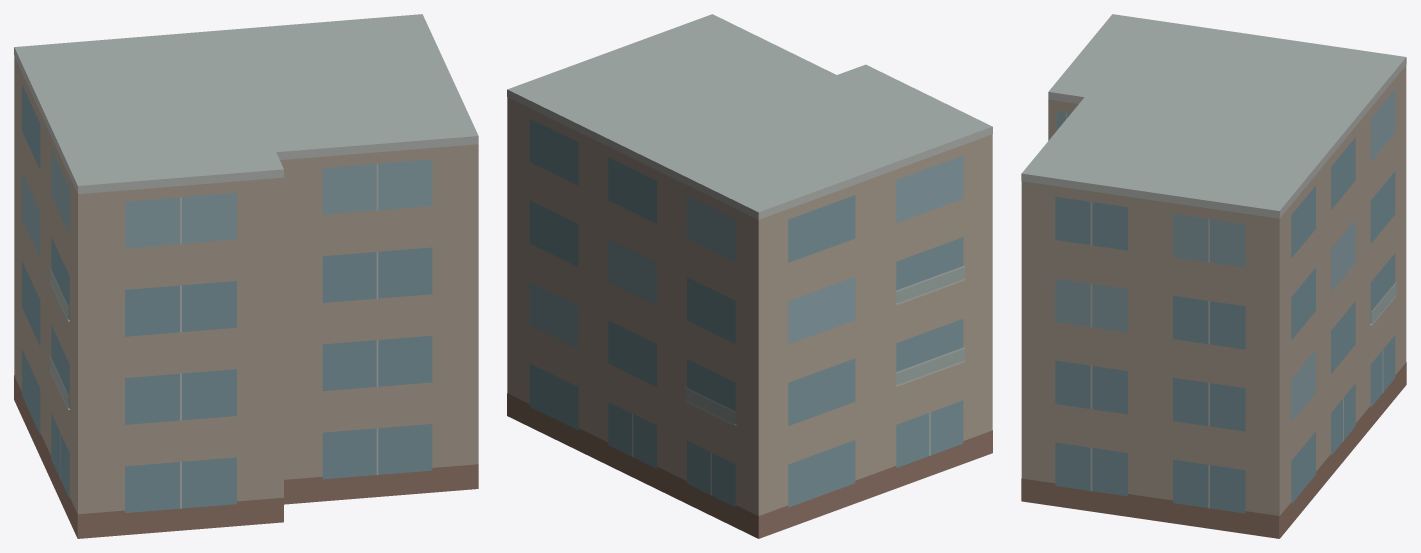
File: survey-upis-32813786.glb
The picture shows the model from 3 angles, left to right: view 1: azimuth 30°, elevation 25°; view 2: azimuth 150°, elevation 25°; view 3: azimuth 270°, elevation 25°; orthographic projection. The views are drawn at different scales.
Parts seen in each view (by area): view 1: survey-upis-32813786.tmp; view 2: survey-upis-32813786.tmp; view 3: survey-upis-32813786.tmp.
Boxes of the visible parts, x1,y1,x2,y2 form: survey-upis-32813786.tmp: [14, 14, 478, 538]; survey-upis-32813786.tmp: [507, 14, 992, 538]; survey-upis-32813786.tmp: [1021, 14, 1406, 538].
Size of the model in its own units: 13.55 by 10.5 by 11.19.
